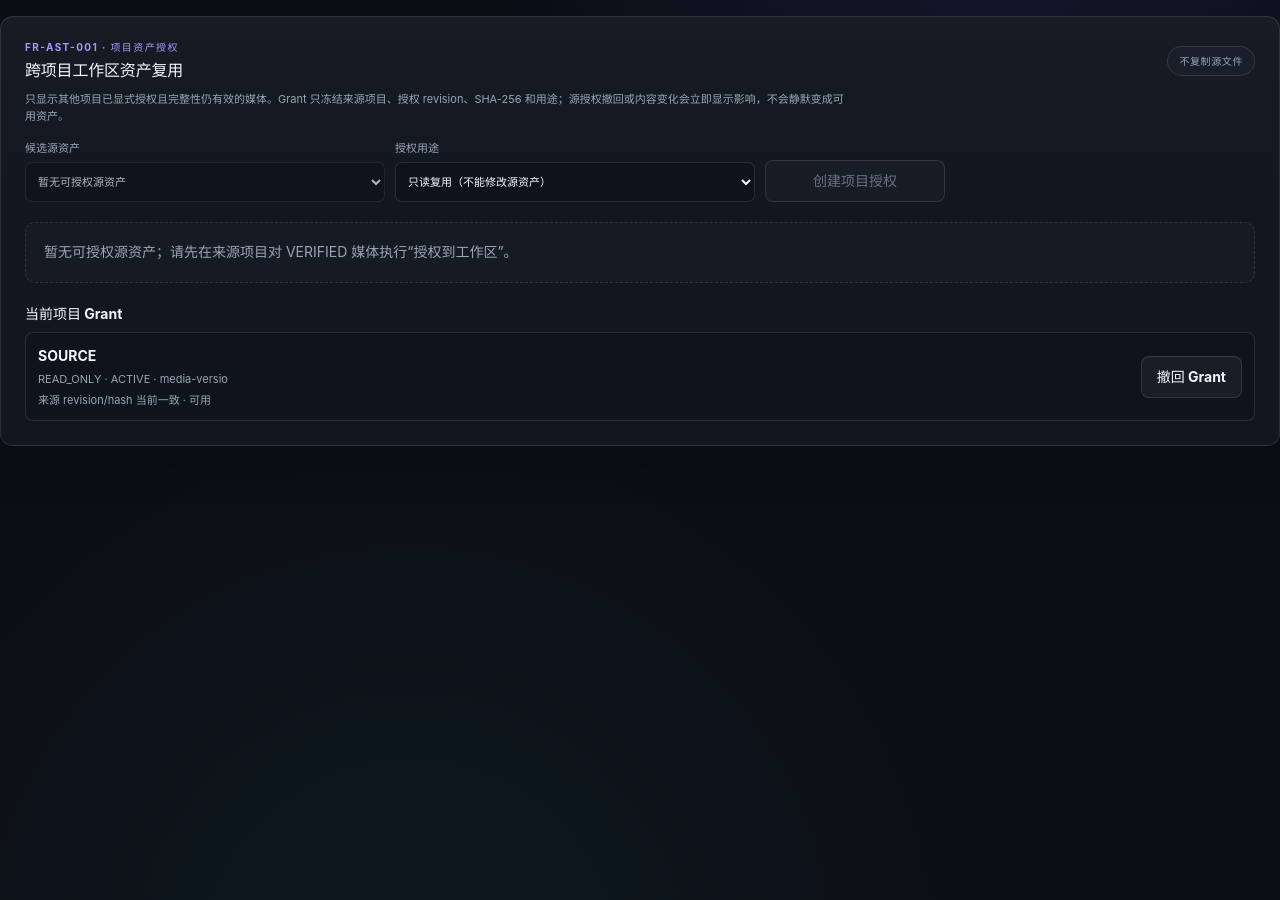
Test: ProjectAssetGrantPanel › closes the revoke dialog and gives durable feedback after success
Click the button "撤回 Grant" at (1191, 377), box [1141,356,1242,398]
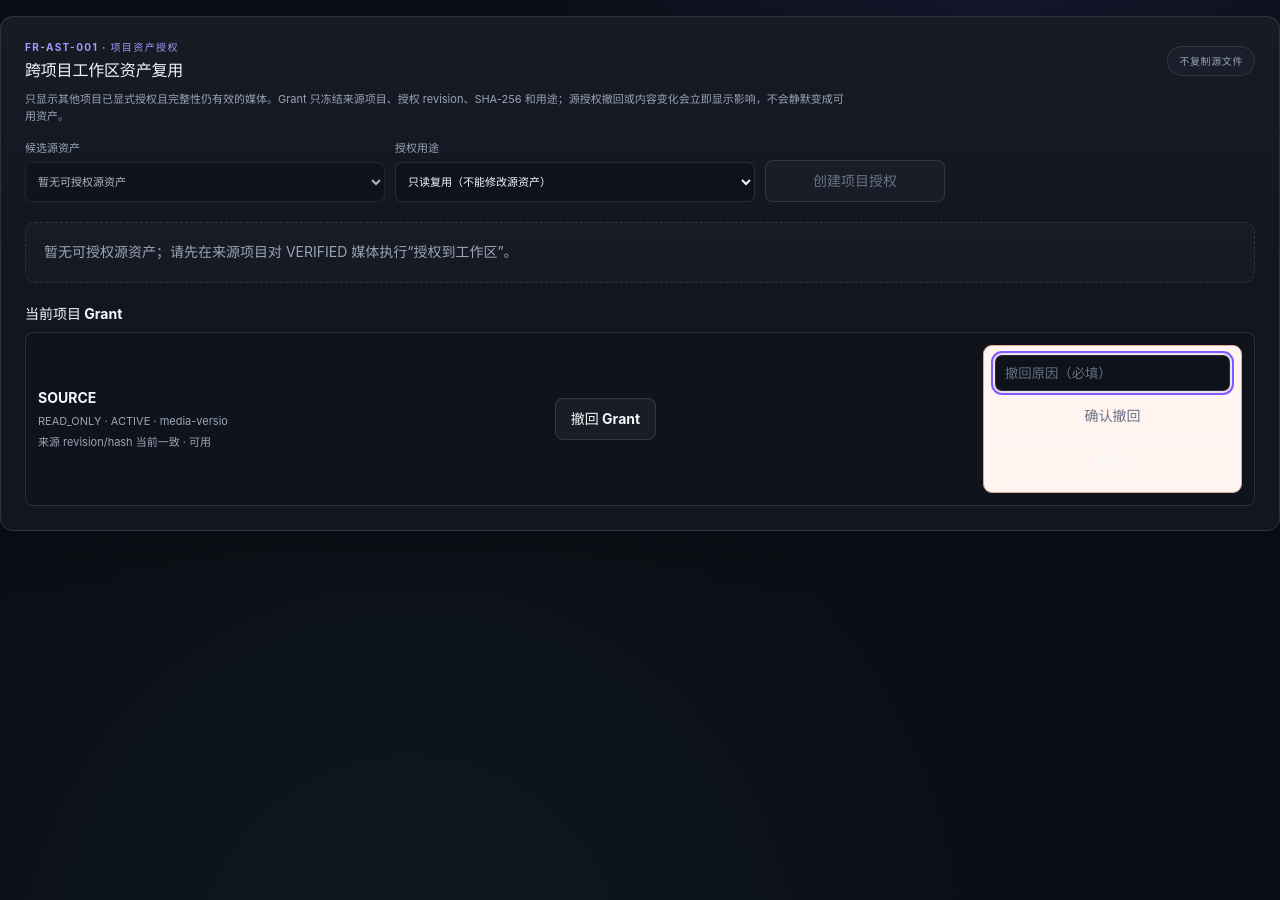
Type "UAT 撤回" into the field named "撤回 Grant 原因" at (1112, 373), box [995,355,1230,391]
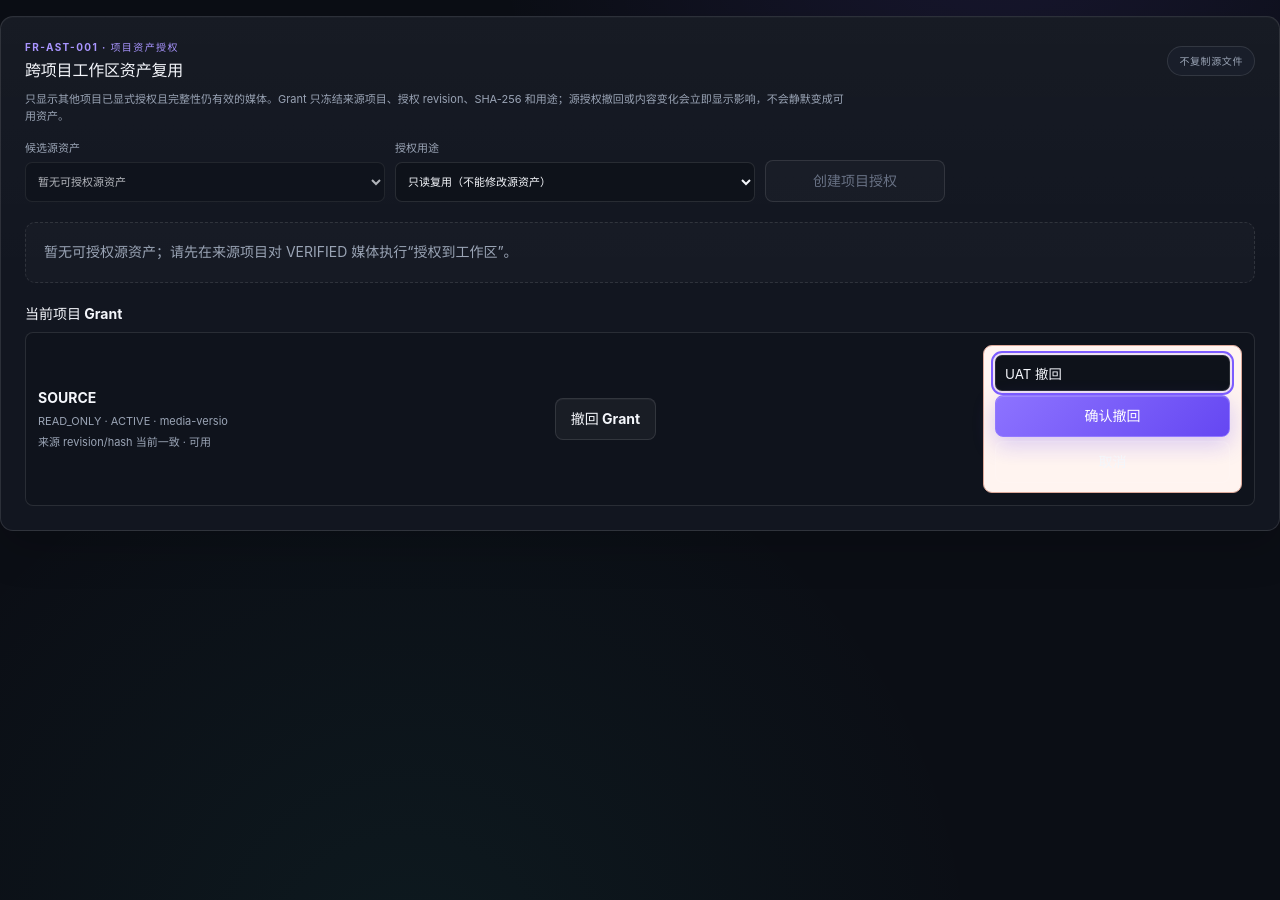
Click the button "确认撤回" at (1112, 416), box [995,395,1230,437]
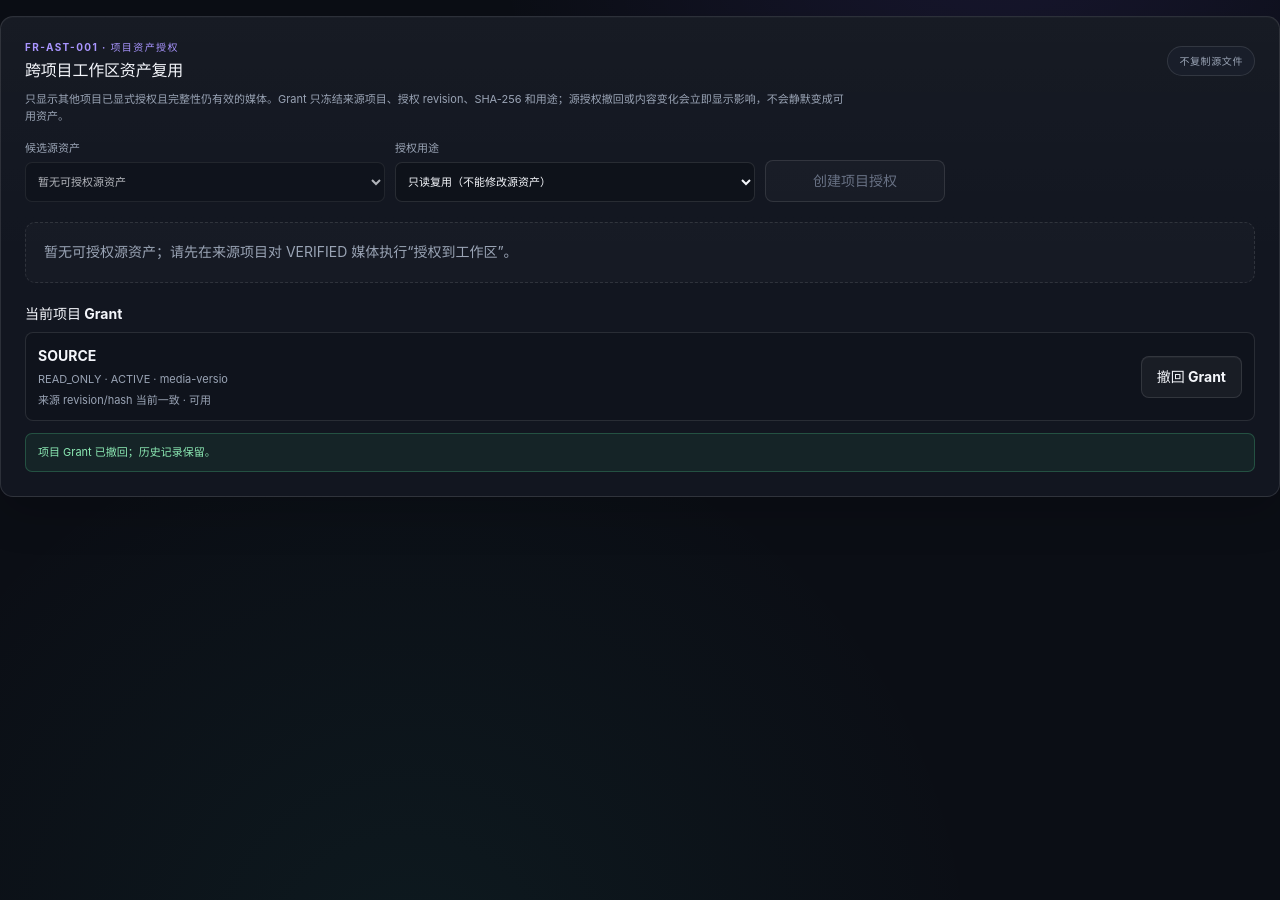
expect the text "项目 Grant 已撤回；历史记录保留。" is shown: met, box [25,434,1255,472]
